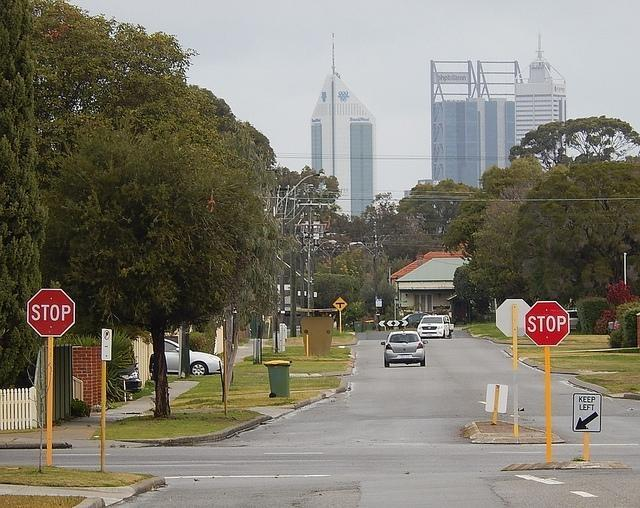car: (163, 339, 222, 377), (381, 330, 428, 368), (416, 314, 454, 339), (402, 313, 428, 328)
